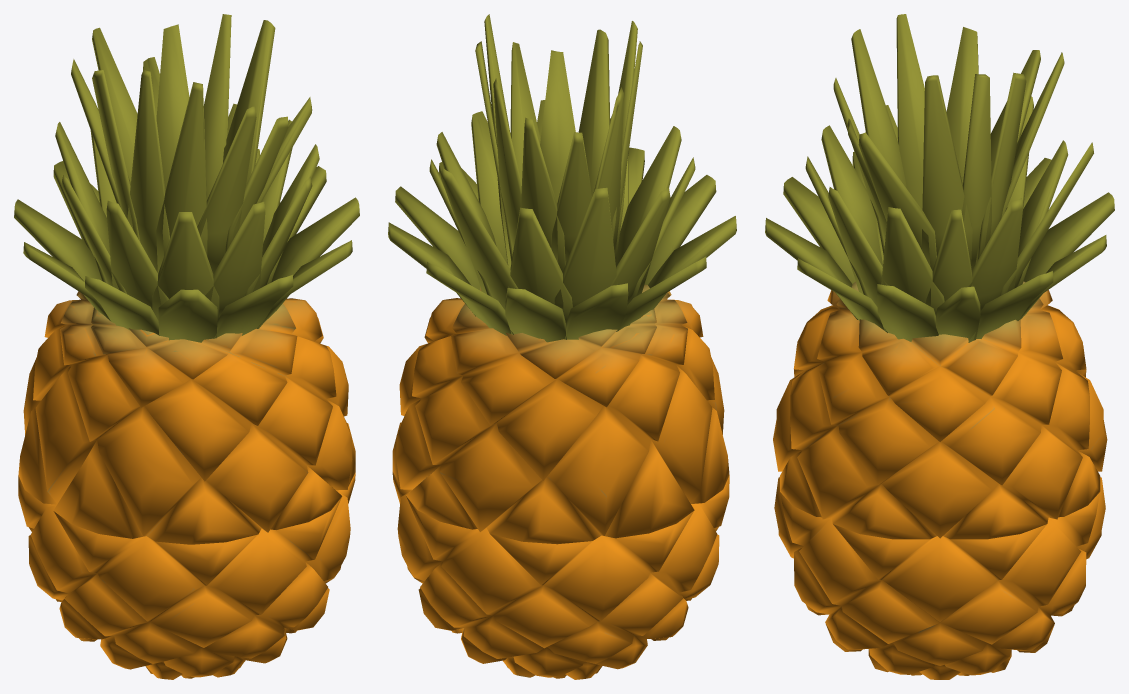
File: PineappleSplit.fbx
3 views of the same model, side by side, from view 1: azimuth 30°, elevation 25°; view 2: azimuth 150°, elevation 25°; view 3: azimuth 270°, elevation 25° (orthographic).
Visible parts, largest first — view 1: pineapple.001, pineapple.002; view 2: pineapple.001, pineapple.002; view 3: pineapple.001, pineapple.002.
Part boxes in pixels (<box>): pineapple.001: <box>14,14,359,544</box>; pineapple.002: <box>18,472,355,679</box>; pineapple.001: <box>388,14,736,544</box>; pineapple.002: <box>392,472,729,679</box>; pineapple.001: <box>765,14,1114,539</box>; pineapple.002: <box>774,477,1105,679</box>.
Size of the model in its own units: 416 by 821 by 420.
Materials: 2 (2 with a texture image).
